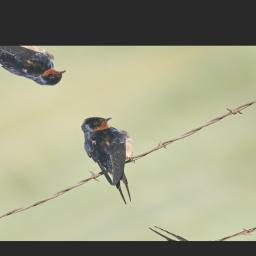Swallow: (51, 109, 177, 206)
